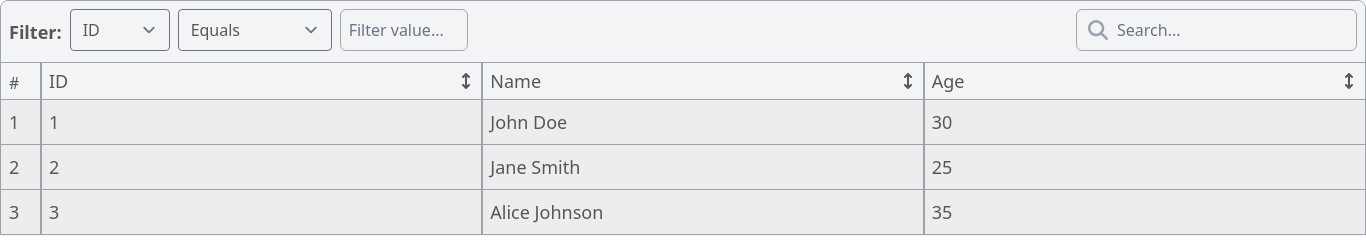
Test: DataGrid Component › searches rows based on search term
Type "Alice" into the field with placeholder "Search...". click: (1216, 30)
box: [1076,9,1357,51]
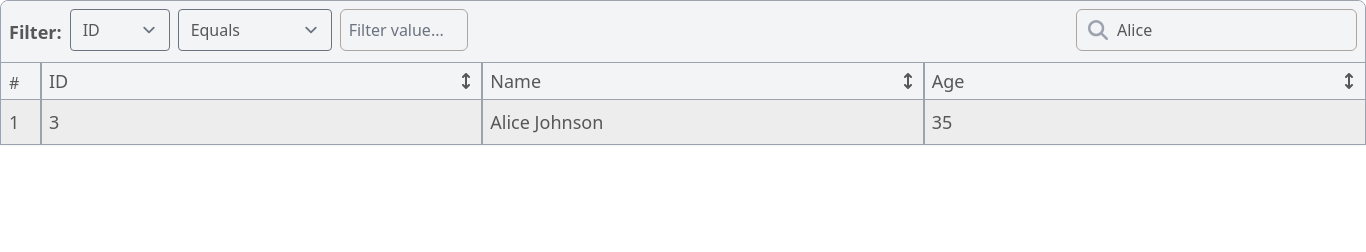
Expected: the text "Alice Johnson" is shown, [482,100,924,144]
Expected: the text "John Doe" is gone
